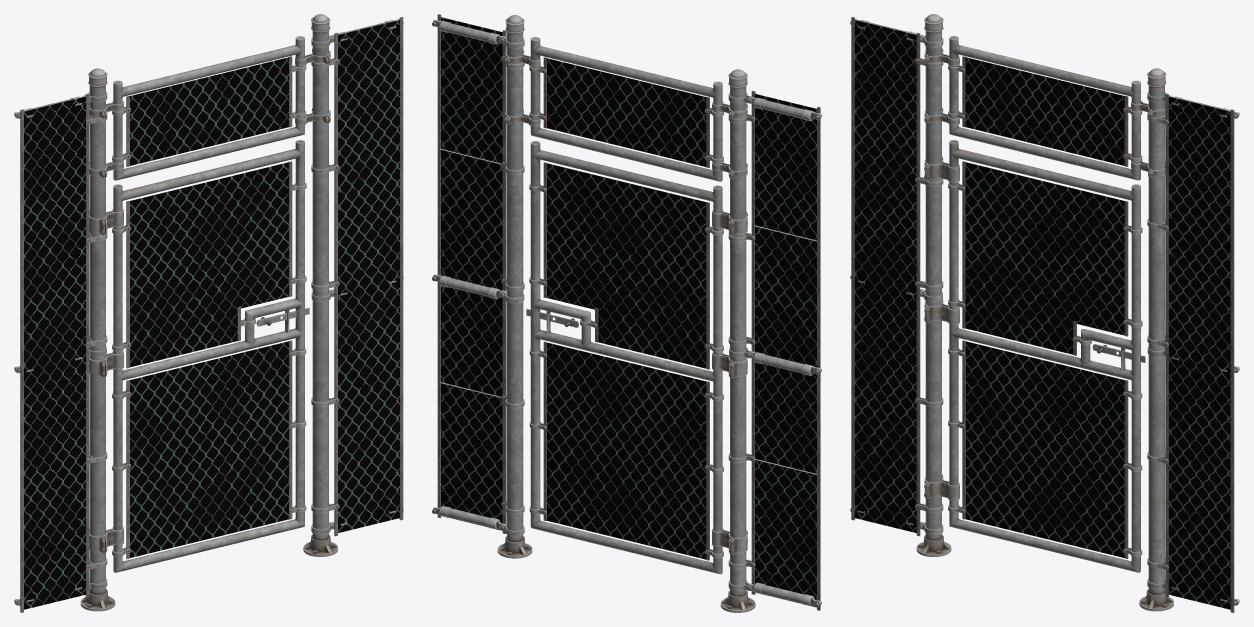
Rendered from fence-gate.glb.
The picture shows the model from 3 angles, left to right: view 1: azimuth 30°, elevation 25°; view 2: azimuth 150°, elevation 25°; view 3: azimuth 330°, elevation 25°; orthographic projection.
Parts seen in each view (by area): view 1: modular_chainlink_fence_door_gate, modular_chainlink_fence_door_latch; view 2: modular_chainlink_fence_door_gate, modular_chainlink_fence_door_latch; view 3: modular_chainlink_fence_door_gate, modular_chainlink_fence_door_latch.
Boxes of the visible parts, box(x1,y1,x2,y2) form: modular_chainlink_fence_door_gate: box(24, 20, 399, 609); modular_chainlink_fence_door_latch: box(14, 14, 403, 612); modular_chainlink_fence_door_gate: box(441, 17, 816, 607); modular_chainlink_fence_door_latch: box(432, 14, 821, 612); modular_chainlink_fence_door_gate: box(854, 20, 1230, 609); modular_chainlink_fence_door_latch: box(850, 14, 1239, 612).
Size of the model in its own units: 1.91 by 2.52 by 0.1481.
Materials: 2 (2 with a texture image).
